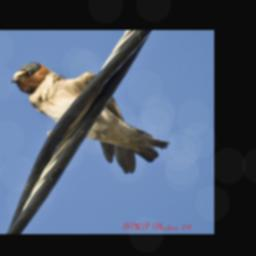Swallow: (9, 61, 171, 175)
